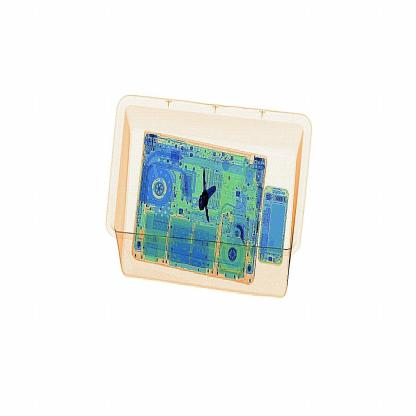wrench: (193, 169, 221, 227)
